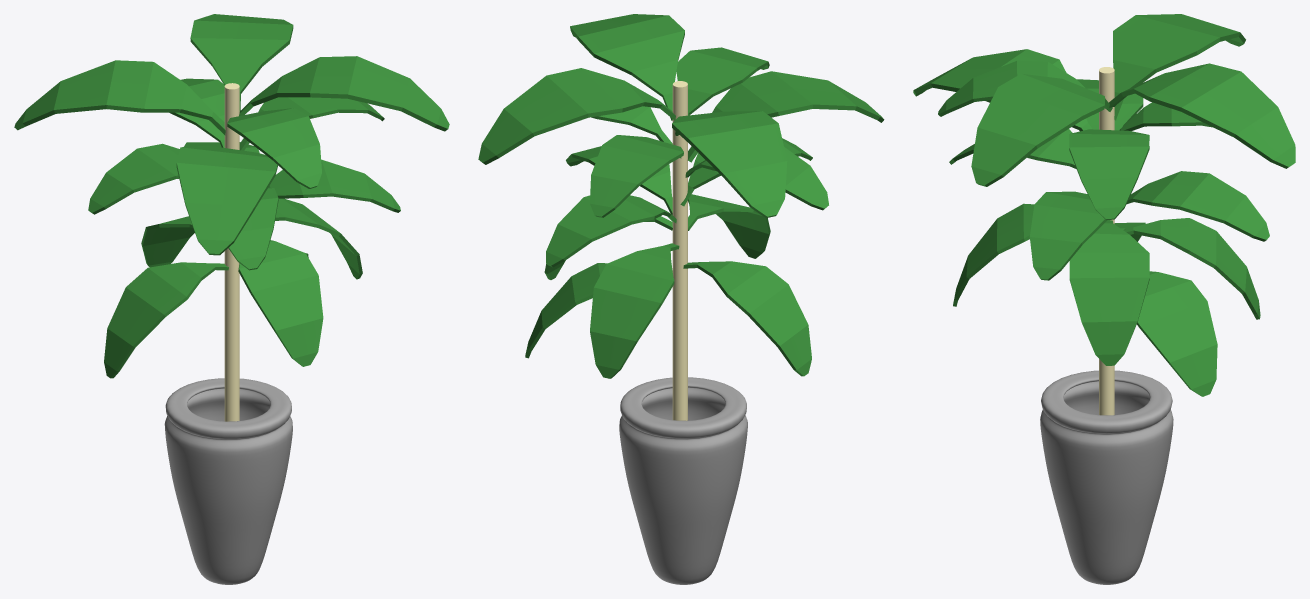
File: plant_large.fbx
3 views of the same model, side by side, from view 1: azimuth 30°, elevation 25°; view 2: azimuth 150°, elevation 25°; view 3: azimuth 270°, elevation 25° (orthographic). The views are drawn at different scales.
Visible parts, largest first — view 1: tallplant; view 2: tallplant; view 3: tallplant.
Boxes of the visible parts, x1=… form: tallplant: x1=14, y1=14, x2=449, y2=584; tallplant: x1=478, y1=14, x2=884, y2=584; tallplant: x1=913, y1=14, x2=1295, y2=584.
Bounding box in the file's own units: 22.74 × 34.76 × 22.99.
